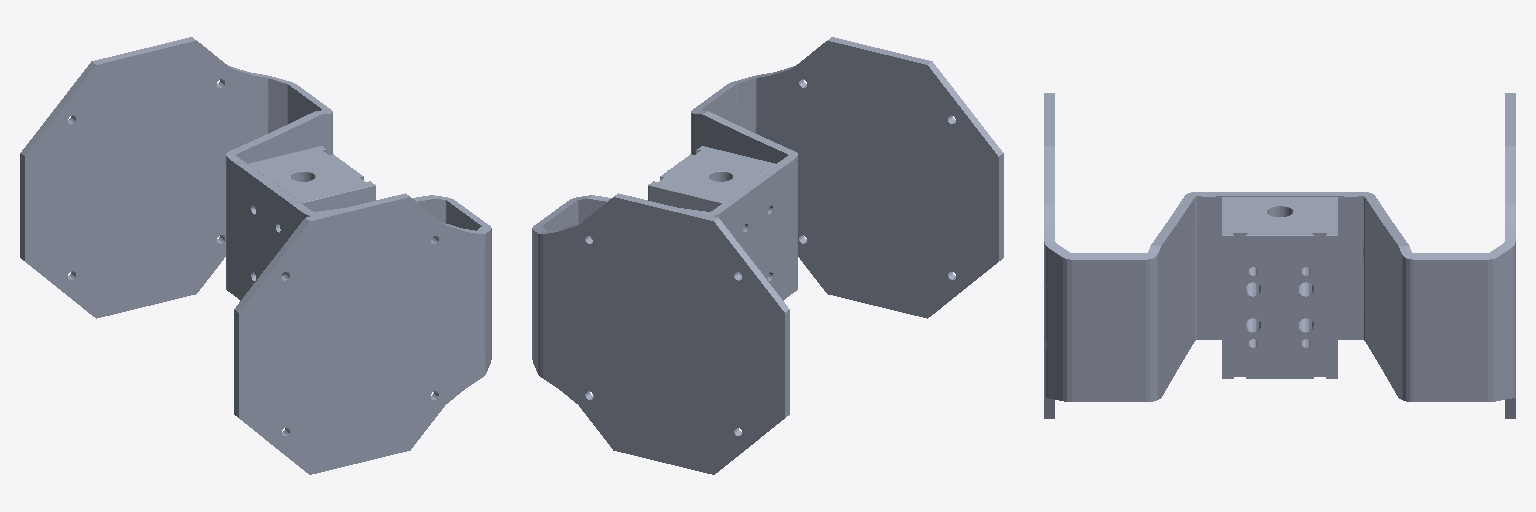
The robot description file, URDF, robot "slider":
<robot
  name="slider">
  <link
    name="slider_link">
    <inertial>
      <origin
        xyz="-0.00360151716417467 3.64205452949018E-09 0.0299999999677074"
        rpy="0 0 0" />
      <mass
        value="0.23160791066701" />
      <inertia
        ixx="0.000945220644743642"
        ixy="-1.45954830897285E-13"
        ixz="2.7843364751832E-13"
        iyy="0.000299581592500915"
        iyz="-4.80914345363323E-12"
        izz="0.0010052721488718" />
    </inertial>
    <visual>
      <origin
        xyz="0 0 0"
        rpy="0 0 0" />
      <geometry>
        <mesh
          filename="package://jbot_description/meshes/slider_link.stl" />
      </geometry>
      <material
        name="">
        <color
          rgba="0.666666666666667 0.698039215686274 0.768627450980392 1" />
      </material>
    </visual>
    <collision>
      <origin
        xyz="0 0 0"
        rpy="0 0 0" />
      <geometry>
        <mesh
          filename="package://jbot_description/meshes/slider_link.stl" />
      </geometry>
    </collision>
  </link>
  <!--link
    name="link_right_arm_base" />
  <joint
    name="joint_right_arm"
    type="fixed">
    <origin
      xyz="-0.024519 0.089 0.03"
      rpy="-1.5708 -1.502E-16 -1.3151E-12" />
    <parent
      link="slider_link" />
    <child
      link="link_right_arm_base" />
    <axis
      xyz="0 0 0" />
  </joint>
  <link
    name="link_left_arm_base" />
  <joint
    name="joint_left_arm"
    type="fixed">
    <origin
      xyz="-0.024519 -0.089 0.03"
      rpy="-1.5708 1.502E-16 3.1416" />
    <parent
      link="slider_link" />
    <child
      link="link_left_arm_base" />
    <axis
      xyz="0 0 0" />
  </joint-->
</robot>

--- Facts derived from the render (not from the file) ---
The picture shows the robot from 3 angles, left to right: view 1: azimuth 30°, elevation 25°; view 2: azimuth 150°, elevation 25°; view 3: azimuth 270°, elevation 25°; orthographic projection.
Model slider with 1 links and 0 joints (none), rooted at slider_link, posed all joints at 0.
Visible links, largest first — view 1: slider_link; view 2: slider_link; view 3: slider_link.
Link boxes in pixels (bbox=[...]): slider_link: bbox=[20, 37, 491, 474]; slider_link: bbox=[532, 37, 1003, 474]; slider_link: bbox=[1044, 93, 1515, 418].
Size in the robot's own frame: 0.124 by 0.178 by 0.114 metres.
1 mesh visuals loaded from 1 distinct referenced files (1 binary STL).